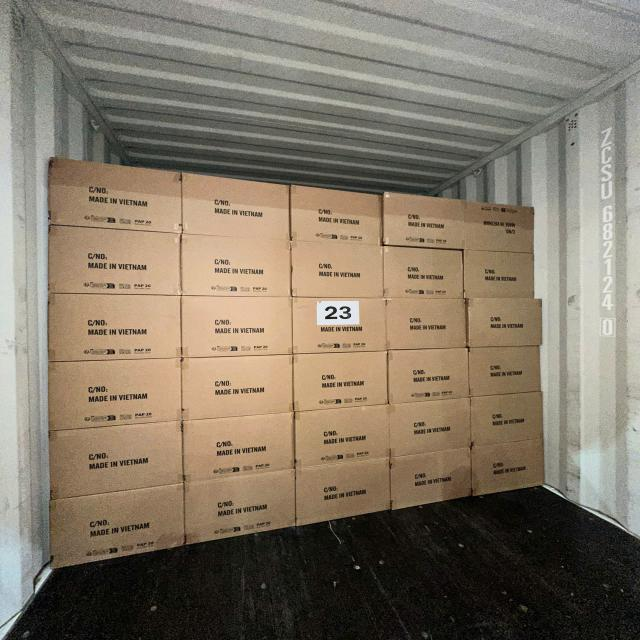Carton: (46, 480, 188, 570), (48, 418, 186, 502), (46, 154, 186, 235), (180, 468, 300, 548), (50, 289, 185, 360), (50, 361, 185, 432), (50, 228, 184, 299), (182, 409, 296, 485), (184, 167, 295, 236), (180, 352, 292, 417), (294, 455, 393, 528), (180, 297, 293, 360), (181, 236, 294, 298), (294, 403, 394, 472), (295, 350, 391, 409), (381, 190, 469, 253), (294, 299, 391, 356), (294, 183, 386, 243), (293, 242, 388, 300), (470, 435, 551, 498), (384, 242, 467, 303), (390, 451, 472, 512), (390, 402, 474, 457), (388, 346, 471, 401), (464, 198, 542, 255), (386, 302, 468, 353), (469, 393, 543, 447), (468, 300, 544, 350), (469, 345, 543, 395), (463, 251, 538, 300)
